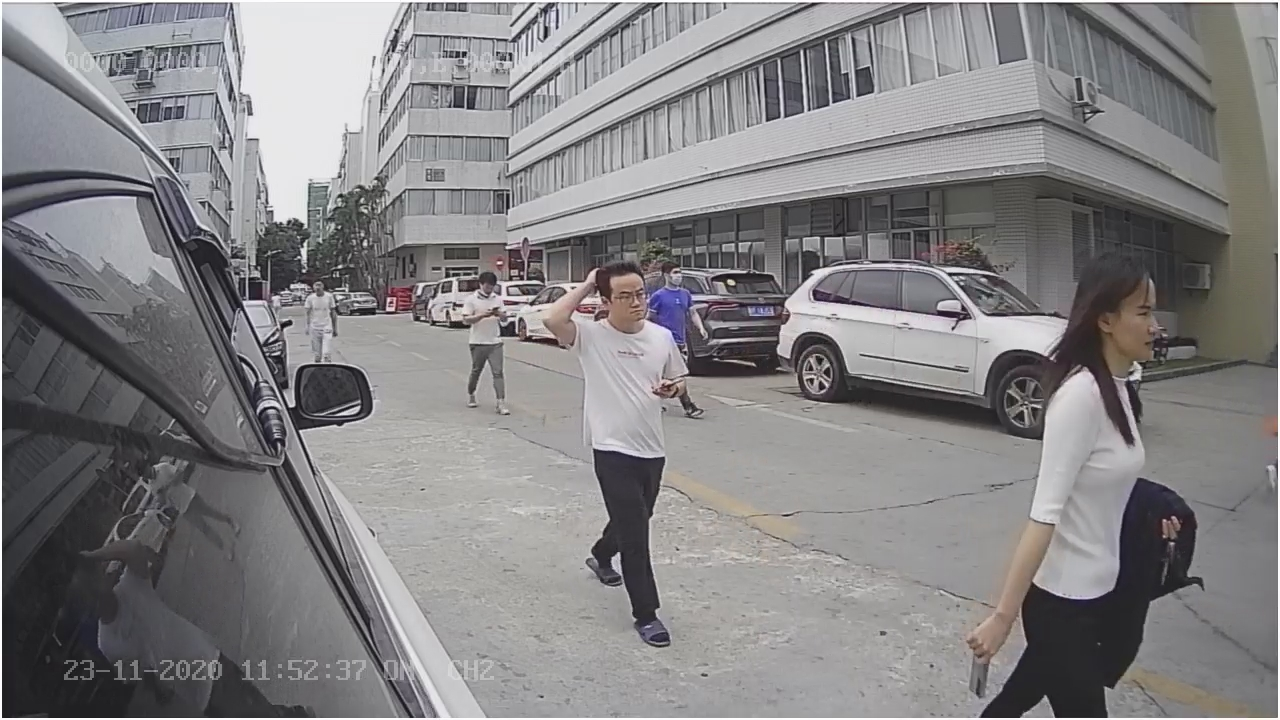person: (1019, 243, 1163, 704), (550, 267, 679, 650)
